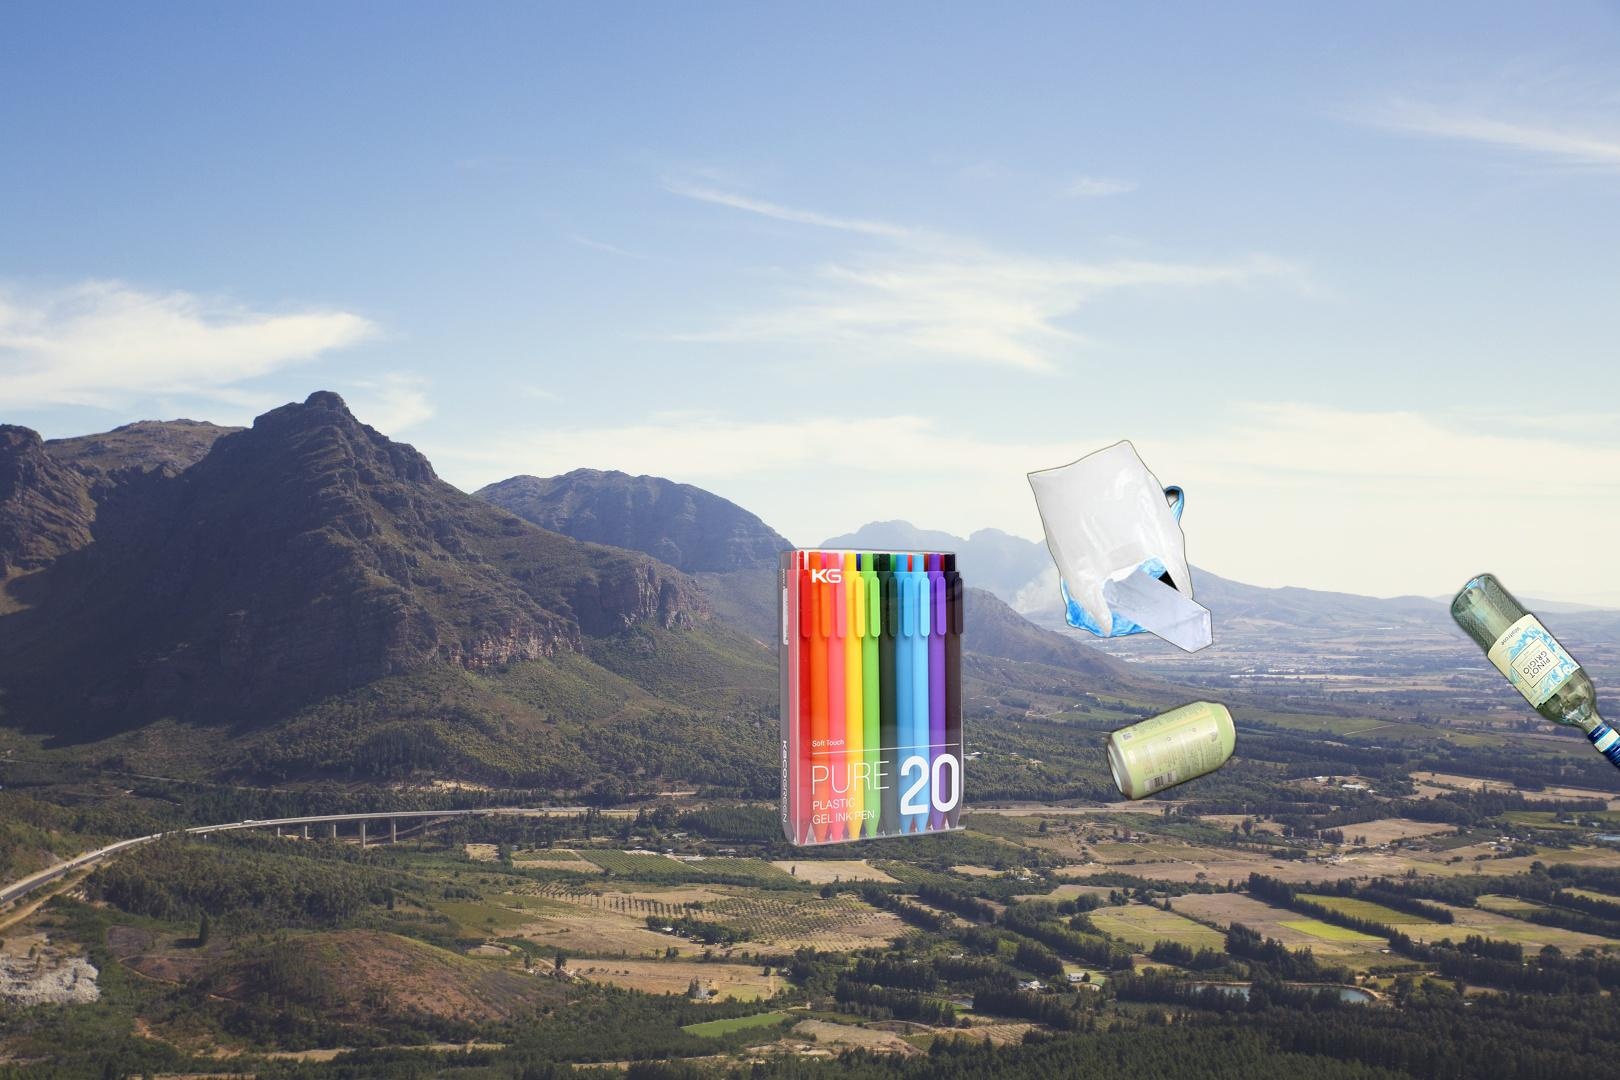glass: (1446, 567, 1620, 777)
metal-cans: (965, 694, 1242, 1080)
penholder: (771, 545, 970, 850)
plastic-bag: (1025, 438, 1216, 655)
